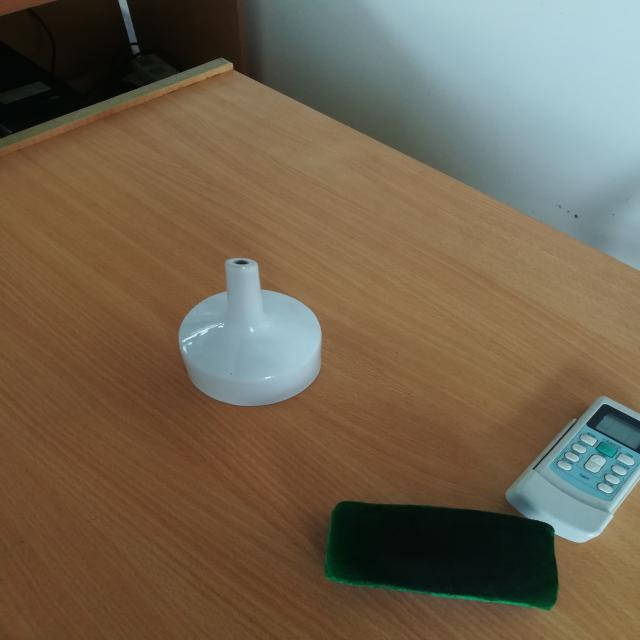Buchner_Funnel: (136, 228, 363, 436)
